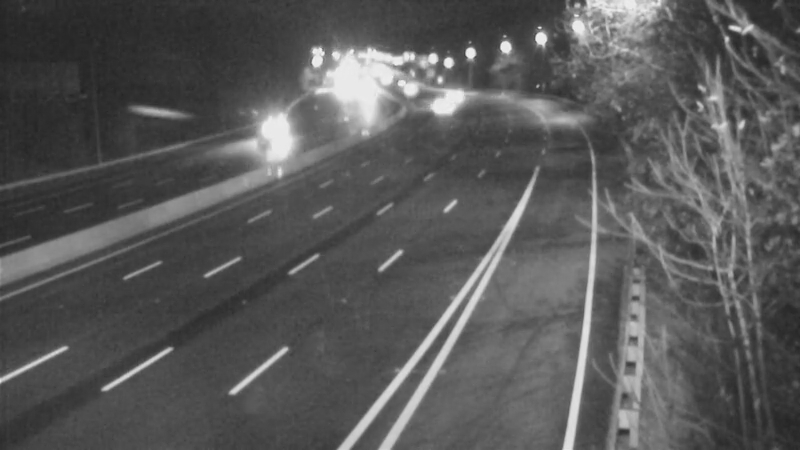vehicle: (384, 59, 434, 109), (427, 70, 477, 120), (416, 84, 466, 134), (245, 114, 295, 164)
